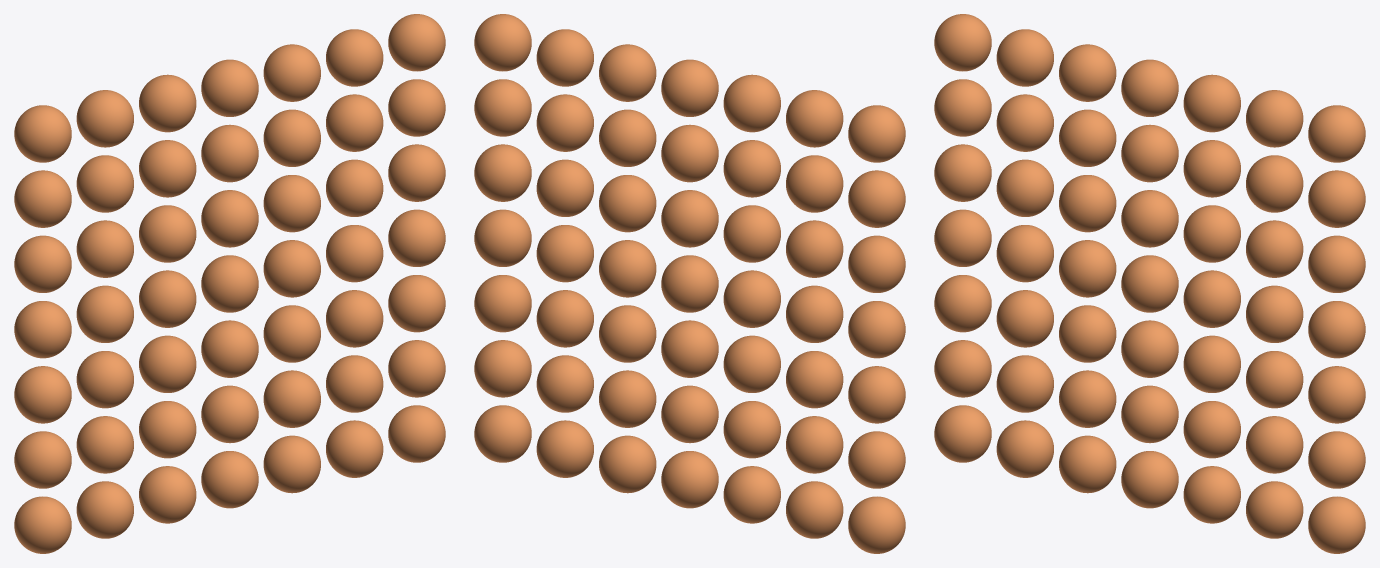
File: lighting_grid.gltf
3 renders of one model, left to right at view 1: azimuth 30°, elevation 25°; view 2: azimuth 150°, elevation 25°; view 3: azimuth 330°, elevation 25°, orthographic.
Parts seen in each view (by area): view 1: Metallic 0.000, roughness 0.500, Metallic 0.333, roughness 0.500, Metallic 0.667, roughness 0.500, Metallic 1.000, roughness 0.500, Metallic 0.000, roughness 1.000, Metallic 0.167, roughness 0.500, Metallic 0.333, roughness 0.045, Metallic 0.333, roughness 1.000, Metallic 0.667, roughness 0.045, Metallic 0.667, roughness 1.000, Metallic 0.833, roughness 0.500, Metallic 1.000, roughness 0.045 (+37 smaller); view 2: Metallic 0.000, roughness 0.500, Metallic 0.333, roughness 0.500, Metallic 0.667, roughness 0.500, Metallic 1.000, roughness 0.500, Metallic 0.000, roughness 1.000, Metallic 0.167, roughness 0.500, Metallic 0.333, roughness 0.045, Metallic 0.333, roughness 1.000, Metallic 0.667, roughness 0.045, Metallic 0.667, roughness 1.000, Metallic 0.833, roughness 0.500, Metallic 1.000, roughness 0.045 (+37 smaller); view 3: Metallic 0.000, roughness 0.500, Metallic 0.333, roughness 0.500, Metallic 0.667, roughness 0.500, Metallic 1.000, roughness 0.500, Metallic 0.000, roughness 0.045, Metallic 0.167, roughness 0.500, Metallic 0.333, roughness 0.045, Metallic 0.333, roughness 1.000, Metallic 0.667, roughness 0.045, Metallic 0.667, roughness 1.000, Metallic 0.833, roughness 0.500, Metallic 1.000, roughness 1.000 (+37 smaller).
Part boxes in pixels (box(x1,y1,x2,y2)): Metallic 0.000, roughness 0.500: box(201, 451, 258, 508); Metallic 0.333, roughness 0.500: box(201, 320, 258, 377); Metallic 0.667, roughness 0.500: box(201, 190, 258, 247); Metallic 1.000, roughness 0.500: box(201, 59, 258, 116); Metallic 0.000, roughness 1.000: box(388, 405, 445, 462); Metallic 0.167, roughness 0.500: box(201, 385, 258, 443); Metallic 0.333, roughness 0.045: box(14, 366, 71, 423); Metallic 0.333, roughness 1.000: box(388, 275, 445, 332); Metallic 0.667, roughness 0.045: box(14, 235, 71, 292); Metallic 0.667, roughness 1.000: box(388, 144, 445, 201); Metallic 0.833, roughness 0.500: box(201, 124, 258, 182); Metallic 1.000, roughness 0.045: box(14, 105, 71, 162); Metallic 0.000, roughness 0.500: box(661, 451, 718, 508); Metallic 0.333, roughness 0.500: box(661, 320, 718, 377); Metallic 0.667, roughness 0.500: box(661, 190, 718, 247); Metallic 1.000, roughness 0.500: box(661, 59, 718, 116); Metallic 0.000, roughness 1.000: box(474, 405, 531, 462); Metallic 0.167, roughness 0.500: box(661, 385, 718, 443); Metallic 0.333, roughness 0.045: box(848, 366, 905, 423); Metallic 0.333, roughness 1.000: box(474, 275, 531, 332); Metallic 0.667, roughness 0.045: box(848, 235, 905, 292); Metallic 0.667, roughness 1.000: box(474, 144, 531, 201); Metallic 0.833, roughness 0.500: box(661, 124, 718, 182); Metallic 1.000, roughness 0.045: box(848, 105, 905, 162); Metallic 0.000, roughness 0.500: box(1121, 451, 1178, 508); Metallic 0.333, roughness 0.500: box(1121, 320, 1178, 377); Metallic 0.667, roughness 0.500: box(1121, 190, 1178, 247); Metallic 1.000, roughness 0.500: box(1121, 59, 1178, 116); Metallic 0.000, roughness 0.045: box(934, 405, 991, 462); Metallic 0.167, roughness 0.500: box(1121, 385, 1178, 443); Metallic 0.333, roughness 0.045: box(934, 275, 991, 332); Metallic 0.333, roughness 1.000: box(1308, 366, 1365, 423); Metallic 0.667, roughness 0.045: box(934, 144, 991, 201); Metallic 0.667, roughness 1.000: box(1308, 235, 1365, 292); Metallic 0.833, roughness 0.500: box(1121, 124, 1178, 182); Metallic 1.000, roughness 1.000: box(1308, 105, 1365, 162).
Size of the model in its own units: 17 by 17 by 2.
